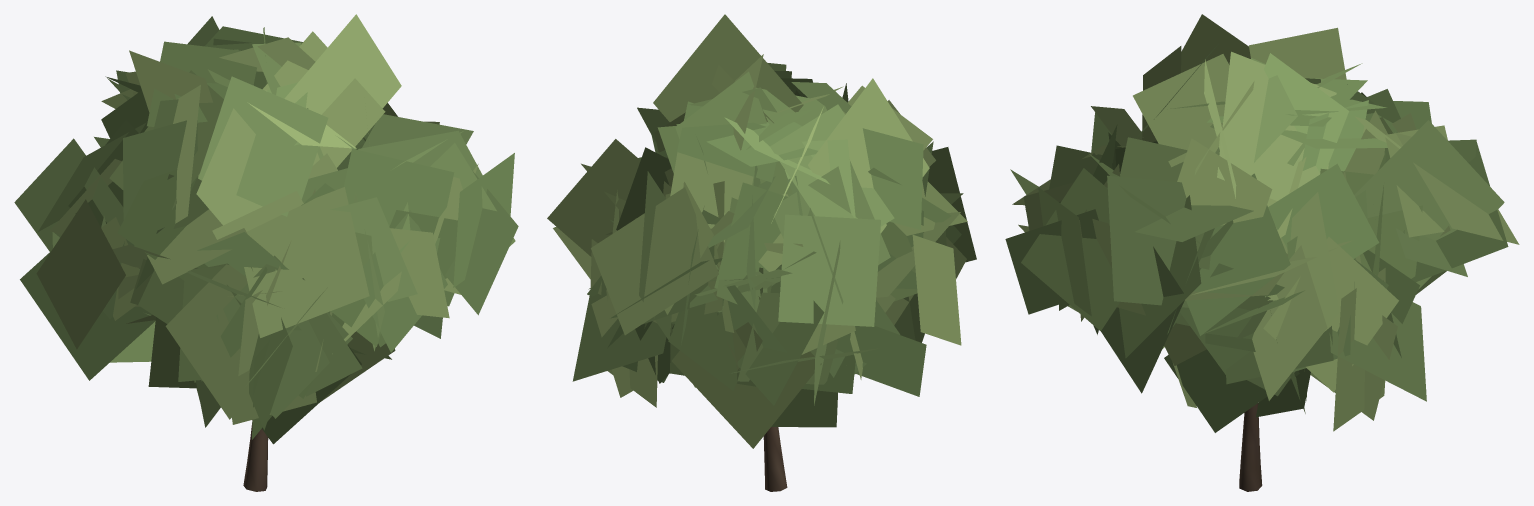
The model's file is broadleaf_lod1.glb.
3 renders of one model, left to right at view 1: azimuth 30°, elevation 25°; view 2: azimuth 150°, elevation 25°; view 3: azimuth 270°, elevation 25°, orthographic. The views are drawn at different scales.
Parts seen in each view (by area): view 1: broadleaf_lod1; view 2: broadleaf_lod1; view 3: broadleaf_lod1.
Part boxes in pixels (x1=…): broadleaf_lod1: x1=14, y1=14, x2=518, y2=491; broadleaf_lod1: x1=547, y1=14, x2=976, y2=491; broadleaf_lod1: x1=1005, y1=14, x2=1519, y2=491.
Size of the model in its own units: 0.8822 by 1 by 1.
